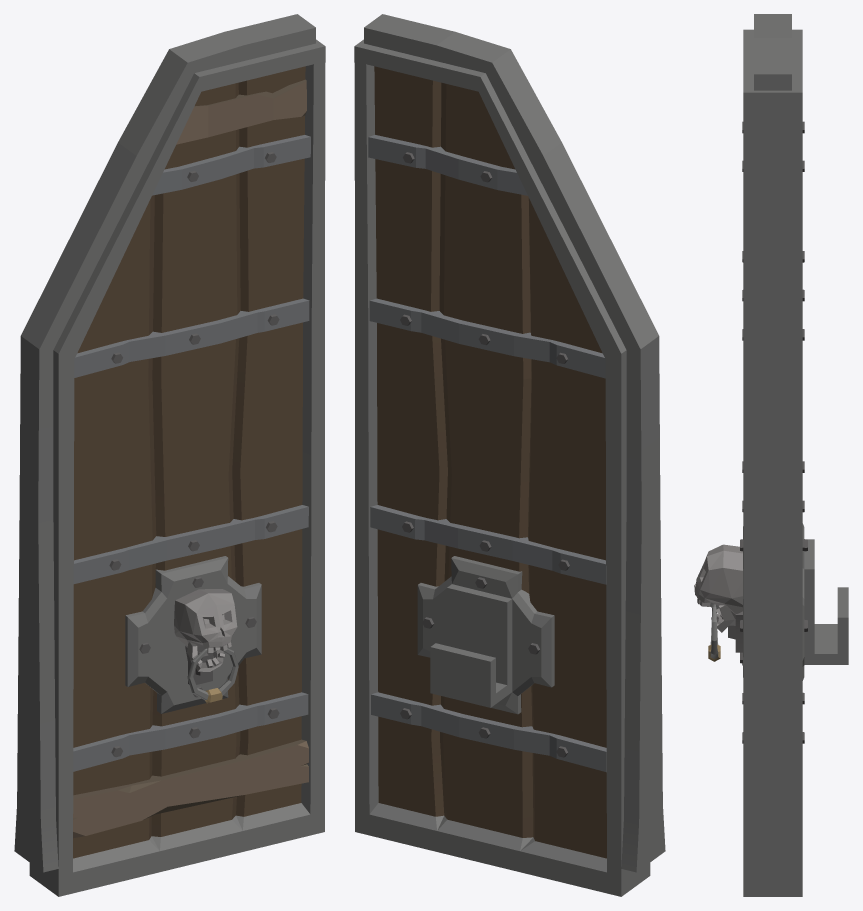
File: SM_Env_Door_Large_Wood_01.FBX
The picture shows the model from 3 angles, left to right: view 1: azimuth 30°, elevation 25°; view 2: azimuth 150°, elevation 25°; view 3: azimuth 270°, elevation 25°; orthographic projection. The views are drawn at different scales.
Parts seen in each view (by area): view 1: SM_Env_Door_Large_Wood_01; view 2: SM_Env_Door_Large_Wood_01; view 3: SM_Env_Door_Large_Wood_01.
Part boxes in pixels (box(x1,y1,x2,y2)): SM_Env_Door_Large_Wood_01: box(14, 14, 325, 896); SM_Env_Door_Large_Wood_01: box(354, 14, 665, 896); SM_Env_Door_Large_Wood_01: box(694, 14, 848, 896).
Size of what is drawn, in the model's own units: 170 by 78.46 by 461.
